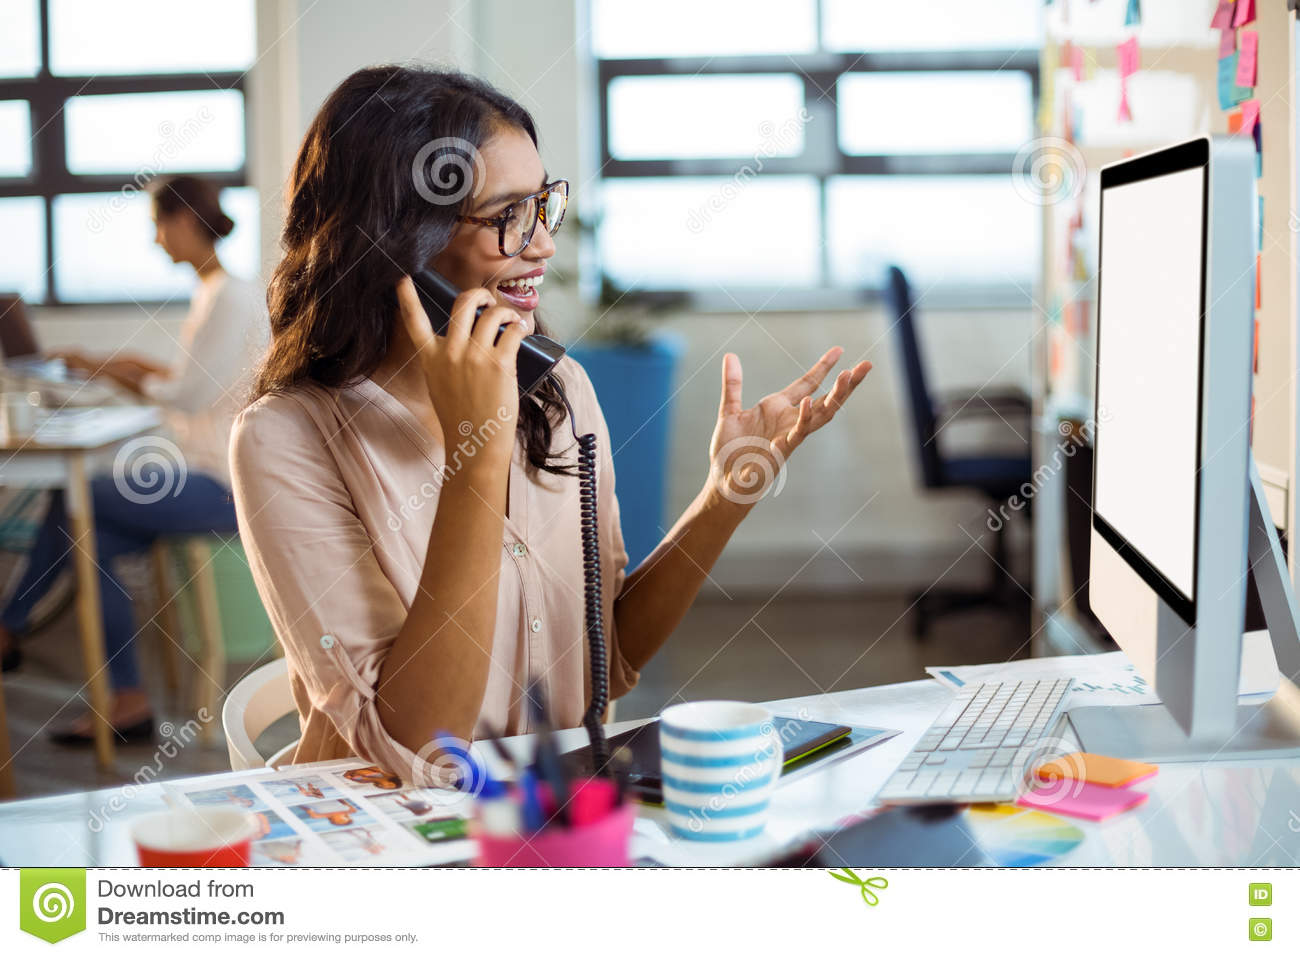phone: (386, 241, 560, 406)
talk: (386, 166, 558, 470)
